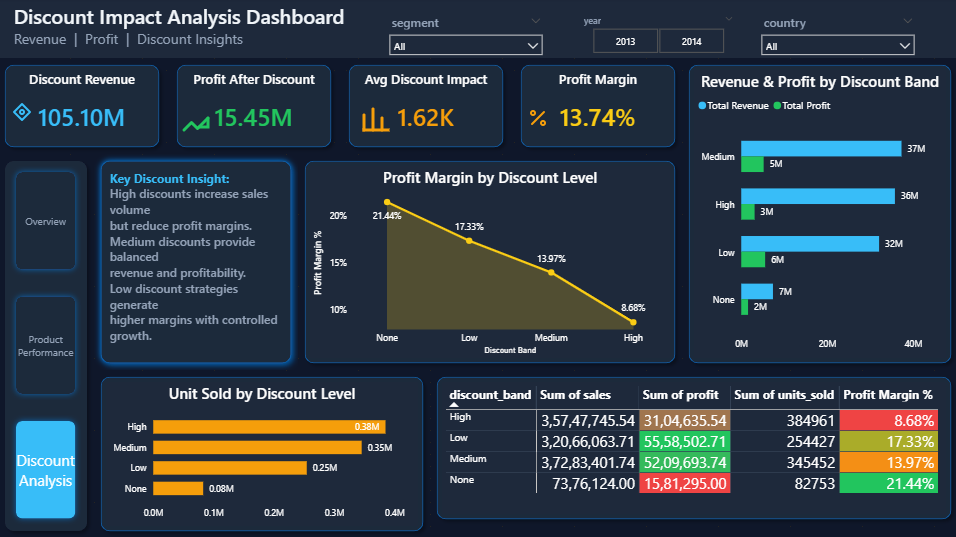

This screenshot's page, from the dashboard's own definition file:
{"tool":"powerbi","page":{"name":"Discount Analysis","canvas":[1280,720],"ordinal":2},"visuals":[{"type":"shape","box":[0,208,128,512],"z":0},{"type":"shape","box":[576,496,704,208],"z":1000},{"type":"shape","box":[912,80,368,416],"z":2000},{"type":"shape","box":[400,208,512,288],"z":3000},{"type":"shape","box":[128,496,448,224],"z":4000},{"type":"shape","box":[229.3,80,224,128],"z":5000},{"type":"shape","box":[458.7,80,224,128],"z":6000},{"type":"shape","box":[688,80,224,128],"z":7000},{"type":"shape","box":[0,80,224,128],"z":8000},{"type":"shape","box":[-128,0,1408,80],"z":9000},{"type":"textbox","box":[16,0,480,80],"z":10000},{"type":"slicer","fields":{"Values":["financial_dashboard_view.year"]},"box":[768,16,224,64],"z":11000},{"type":"slicer","fields":{"Values":["financial_dashboard_view.segment"]},"box":[512,16,224,64],"z":12000},{"type":"slicer","fields":{"Values":["financial_dashboard_view.country"]},"box":[1008,16,224,64],"z":13000},{"type":"cardVisual","title":"Profit Margin","fields":{"Data":["financial_dashboard_view.Profit Margin %"]},"box":[704,96,192,96],"z":14000},{"type":"cardVisual","title":"Discount Revenue","fields":{"Data":["financial_dashboard_view.Total Discount Revenue"]},"box":[16,96,192,96],"z":15000},{"type":"cardVisual","title":"Profit After Discount","fields":{"Data":["financial_dashboard_view.Profit After Discount"]},"box":[245.3,96,192,96],"z":16000},{"type":"cardVisual","title":"Avg Discount Impact","fields":{"Data":["financial_dashboard_view.Avg Discount Impact"]},"box":[474.7,96,192,96],"z":17000},{"type":"clusteredBarChart","title":"Revenue & Profit by Discount Band","fields":{"Category":["financial_dashboard_view.discount_band"],"Y":["financial_dashboard_view.Total Revenue","financial_dashboard_view.Total Profit"]},"box":[928,96,336,384],"z":18000},{"type":"lineChart","title":"Profit Margin by Discount Level","fields":{"Category":["financial_dashboard_view.discount_band"],"Y":["financial_dashboard_view.Profit Margin %"]},"box":[416,224,480,256],"z":19000},{"type":"clusteredBarChart","title":"Unit Sold by Discount Level","fields":{"Category":["financial_dashboard_view.discount_band"],"Y":["Sum(financial_dashboard_view.units_sold)"]},"box":[144,512,416,192],"z":20000},{"type":"pivotTable","fields":{"Rows":["financial_dashboard_view.discount_band"],"Values":["Sum(financial_dashboard_view.sales)","Sum(financial_dashboard_view.profit)","Sum(financial_dashboard_view.units_sold)","financial_dashboard_view.Profit Margin %"]},"box":[592,512,672,176],"z":21000},{"type":"pageNavigator","box":[16,224,96,480],"z":22000},{"type":"shape","box":[128,208,272,288],"z":23000},{"type":"textbox","box":[144,224,240,256],"z":24000},{"type":"image","box":[16,112,32,80],"z":25000},{"type":"image","box":[240,144,48,48],"z":26000},{"type":"image","box":[480,128,48,64],"z":27000},{"type":"image","box":[704,128,32,64],"z":28000}]}

Visuals, with their boxes in screenshot pixels (x1, y1, x2, y2), scaled from the page's 1280x720 canvas onto the 956x537 screenshot:
shape: rect(0, 155, 96, 536)
shape: rect(430, 370, 955, 525)
shape: rect(681, 60, 955, 370)
shape: rect(299, 155, 681, 370)
shape: rect(96, 370, 430, 536)
shape: rect(171, 60, 339, 155)
shape: rect(343, 60, 510, 155)
shape: rect(514, 60, 681, 155)
shape: rect(0, 60, 167, 155)
shape: rect(0, 0, 955, 60)
textbox: rect(12, 0, 370, 60)
slicer - financial_dashboard_view.year: rect(574, 12, 741, 60)
slicer - financial_dashboard_view.segment: rect(382, 12, 550, 60)
slicer - financial_dashboard_view.country: rect(753, 12, 920, 60)
"Profit Margin" cardVisual: rect(526, 72, 669, 143)
"Discount Revenue" cardVisual: rect(12, 72, 155, 143)
"Profit After Discount" cardVisual: rect(183, 72, 327, 143)
"Avg Discount Impact" cardVisual: rect(355, 72, 498, 143)
"Revenue & Profit by Discount Band" clusteredBarChart: rect(693, 72, 944, 358)
"Profit Margin by Discount Level" lineChart: rect(311, 167, 669, 358)
"Unit Sold by Discount Level" clusteredBarChart: rect(108, 382, 418, 525)
pivotTable - financial_dashboard_view.discount_band x Sum(financial_dashboard_view.sales): rect(442, 382, 944, 513)
pageNavigator: rect(12, 167, 84, 525)
shape: rect(96, 155, 299, 370)
textbox: rect(108, 167, 287, 358)
image: rect(12, 84, 36, 143)
image: rect(179, 107, 215, 143)
image: rect(358, 95, 394, 143)
image: rect(526, 95, 550, 143)
